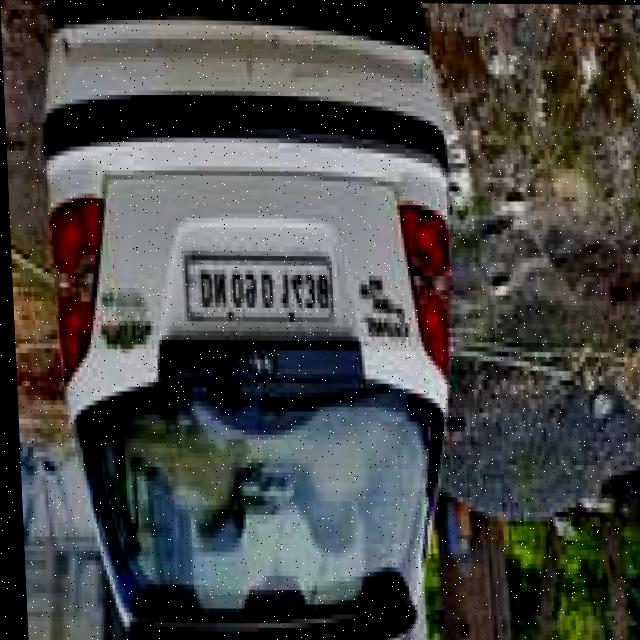plate: (178, 257, 335, 329)
